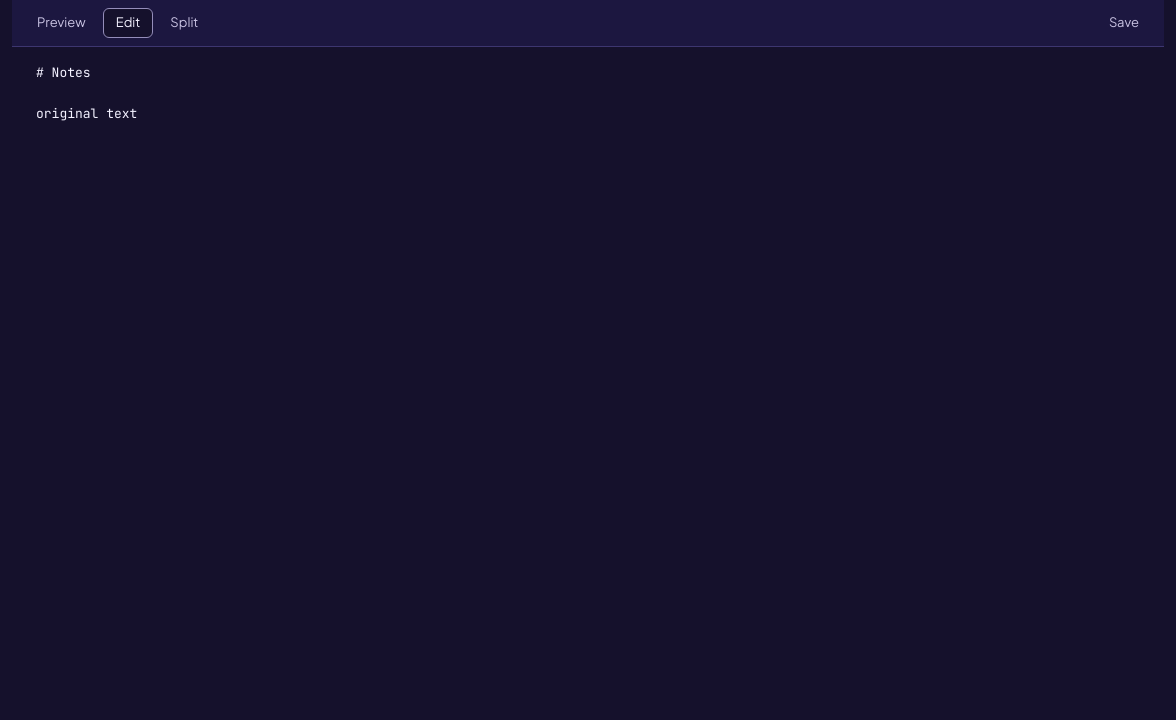
Test: editing › marks the draft unsaved as soon as it differs
The image size is (1176, 720).
Expected: the text "unsaved" is not shown
Type " more" into the text box named "notes.md, editor" at (588, 383), box x1=12 y1=46 x2=1164 y2=719
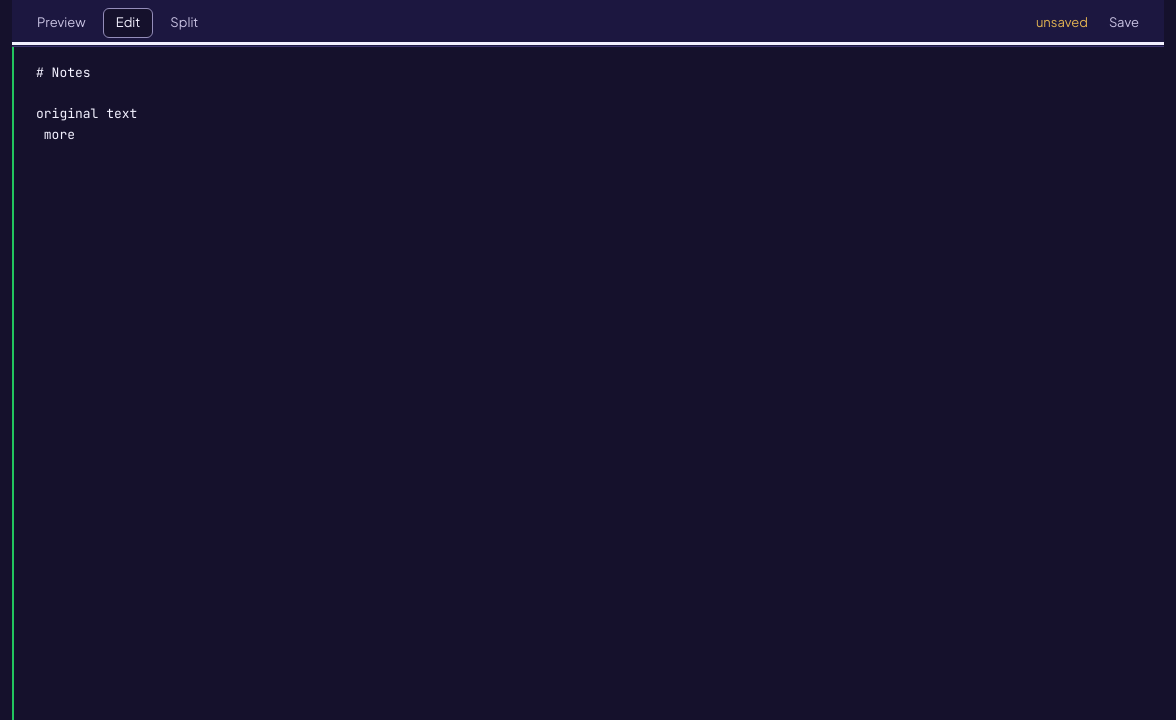
Now the text "unsaved" is shown, box x1=1036 y1=13 x2=1088 y2=32
